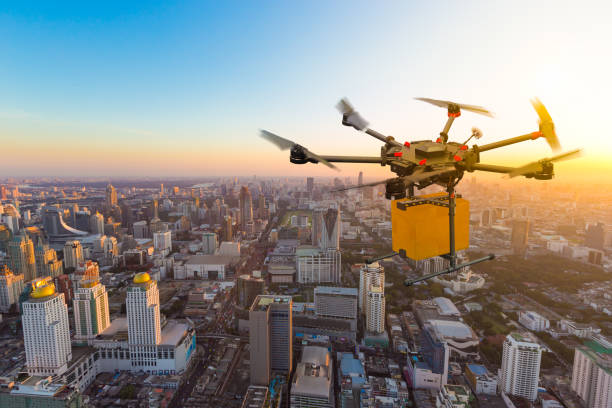Drone: (258, 91, 583, 216)
